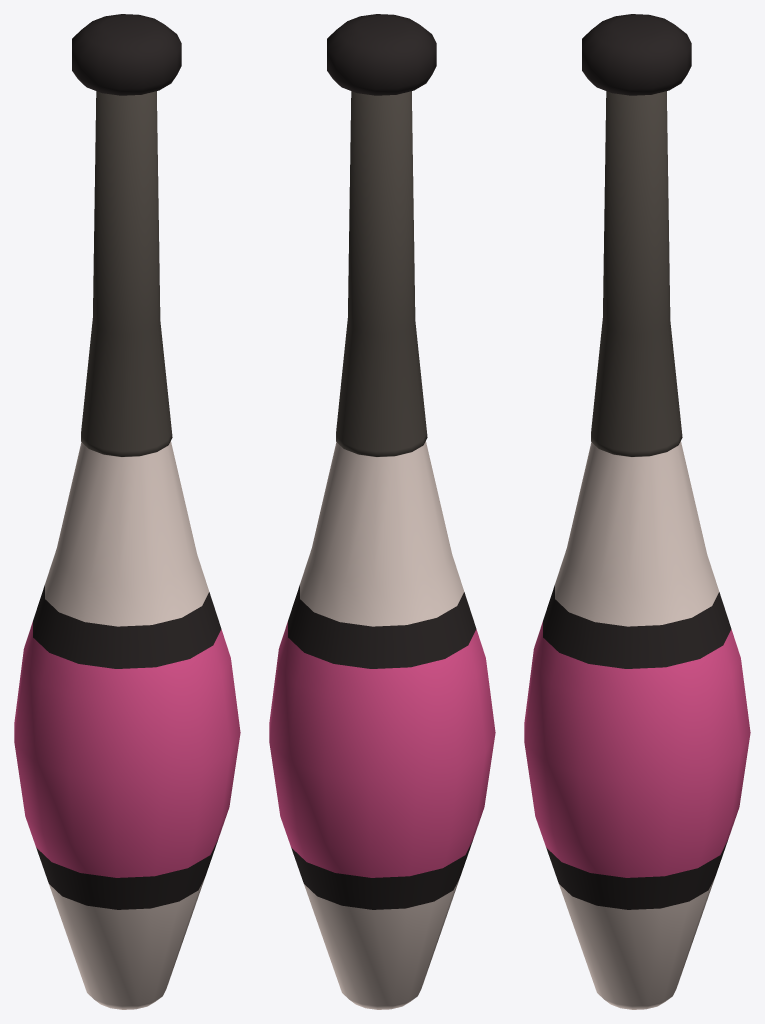
File: LVR_Props_Pin.fbx
3 renders of one model, left to right at view 1: azimuth 30°, elevation 25°; view 2: azimuth 150°, elevation 25°; view 3: azimuth 270°, elevation 25°, orthographic.
Visible parts, largest first — view 1: Juggling Pin; view 2: Juggling Pin; view 3: Juggling Pin.
Part boxes in pixels (x1,y1,x2,y2): Juggling Pin: [14, 14, 240, 1009]; Juggling Pin: [269, 14, 495, 1009]; Juggling Pin: [524, 14, 750, 1009].
Size of the model in its own units: 17.11 by 80.51 by 17.01.
